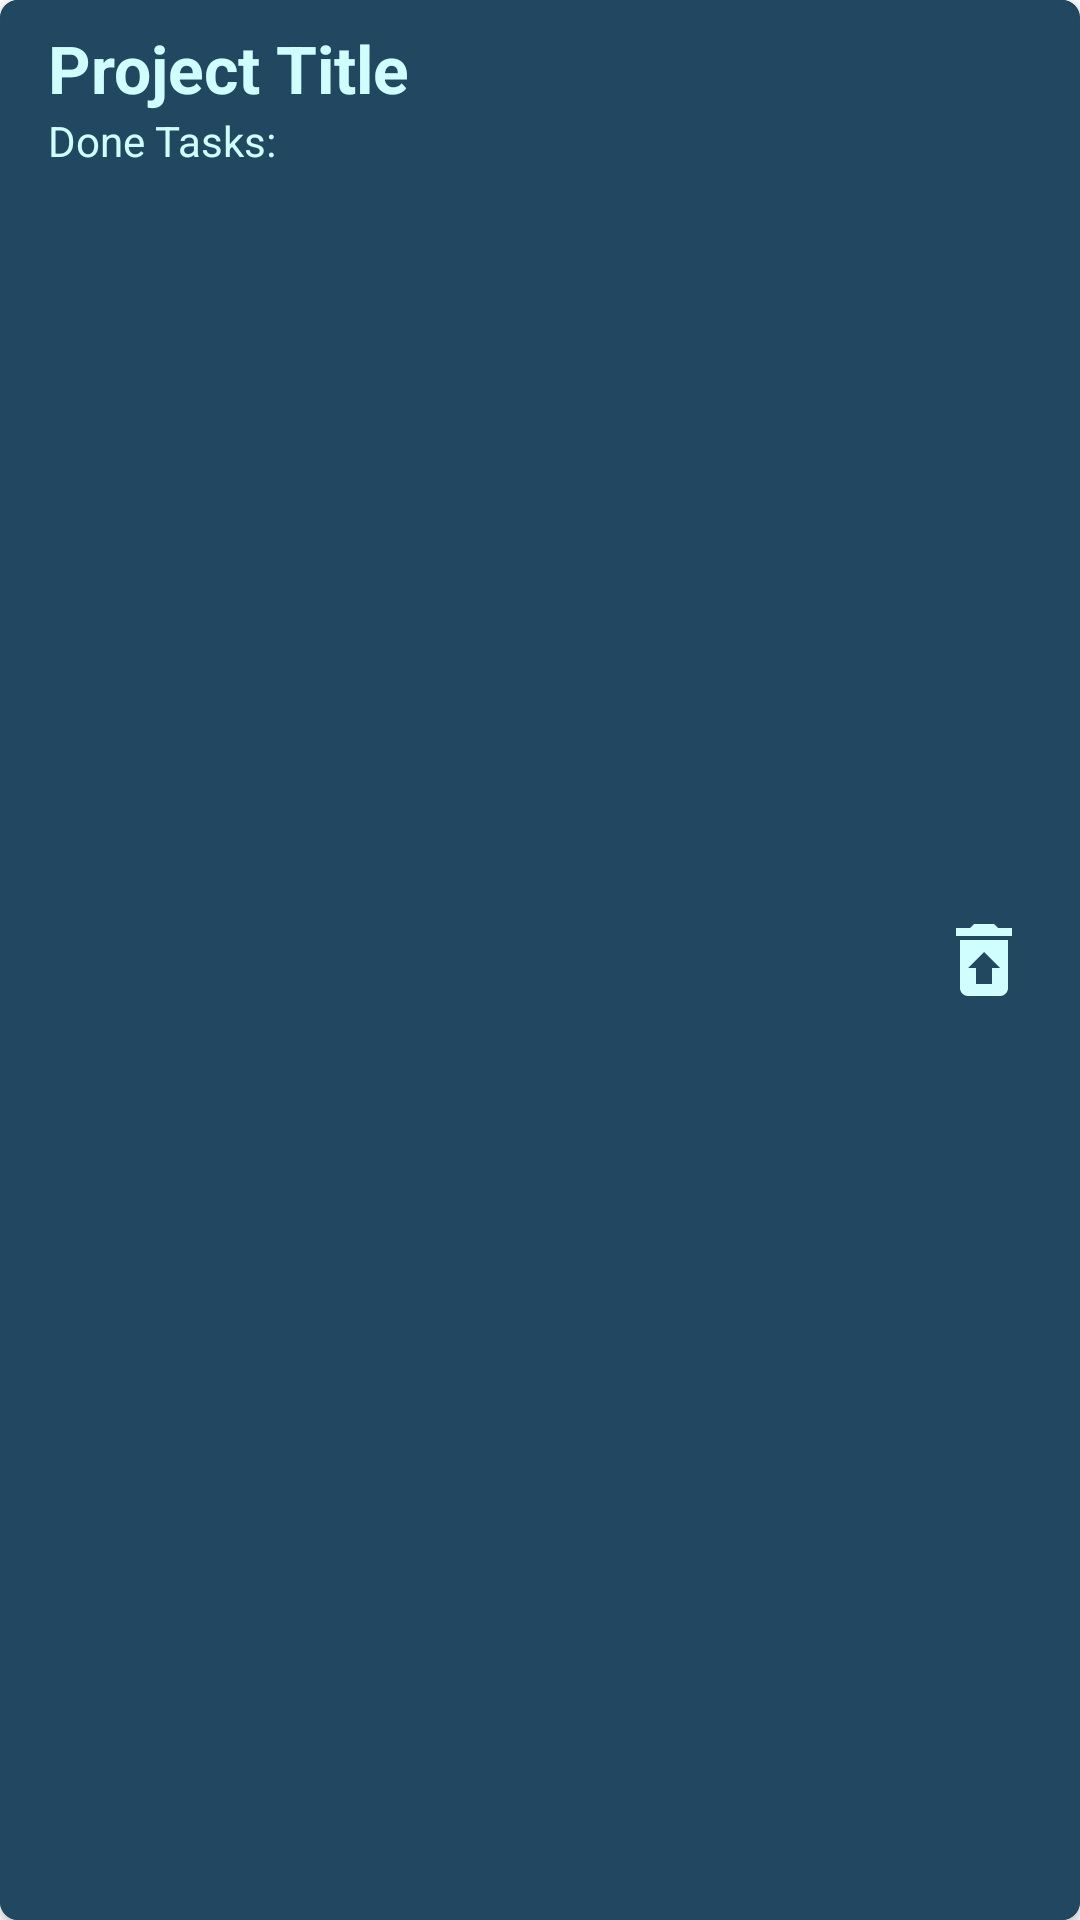

Screen size 1080px×1920px. Icon name, then its center in pixels as (x=x, y=y):
trash: (x=984, y=960)
